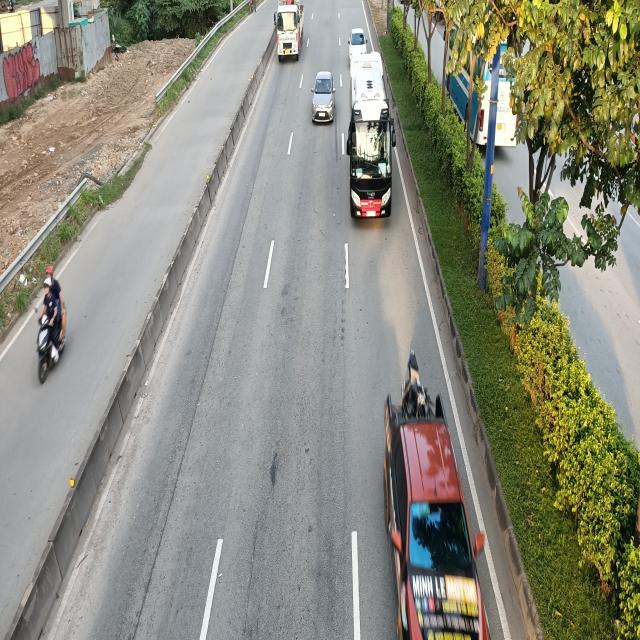car: (380, 349, 498, 640), (311, 71, 336, 125)
coach: (344, 50, 394, 219)
truck: (274, 0, 305, 60)
